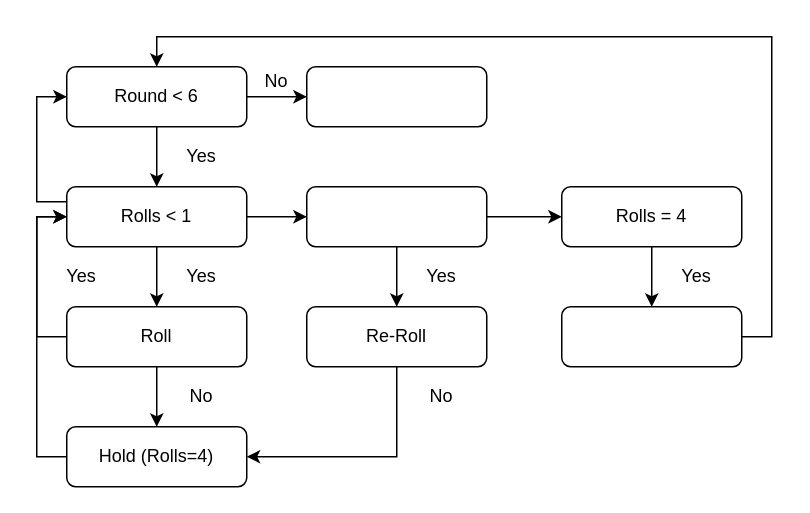
The diagram is 810 pixels wide and 513 high, and some of its shapes have lost their labels. The shapes that lost their labels are listed below. From the top down, each one's centre as x and y in pixels, then its label:
At point (396, 96): "Game End".
At point (396, 216): "Rolls < 4".
At point (651, 336): "Round + 1".
